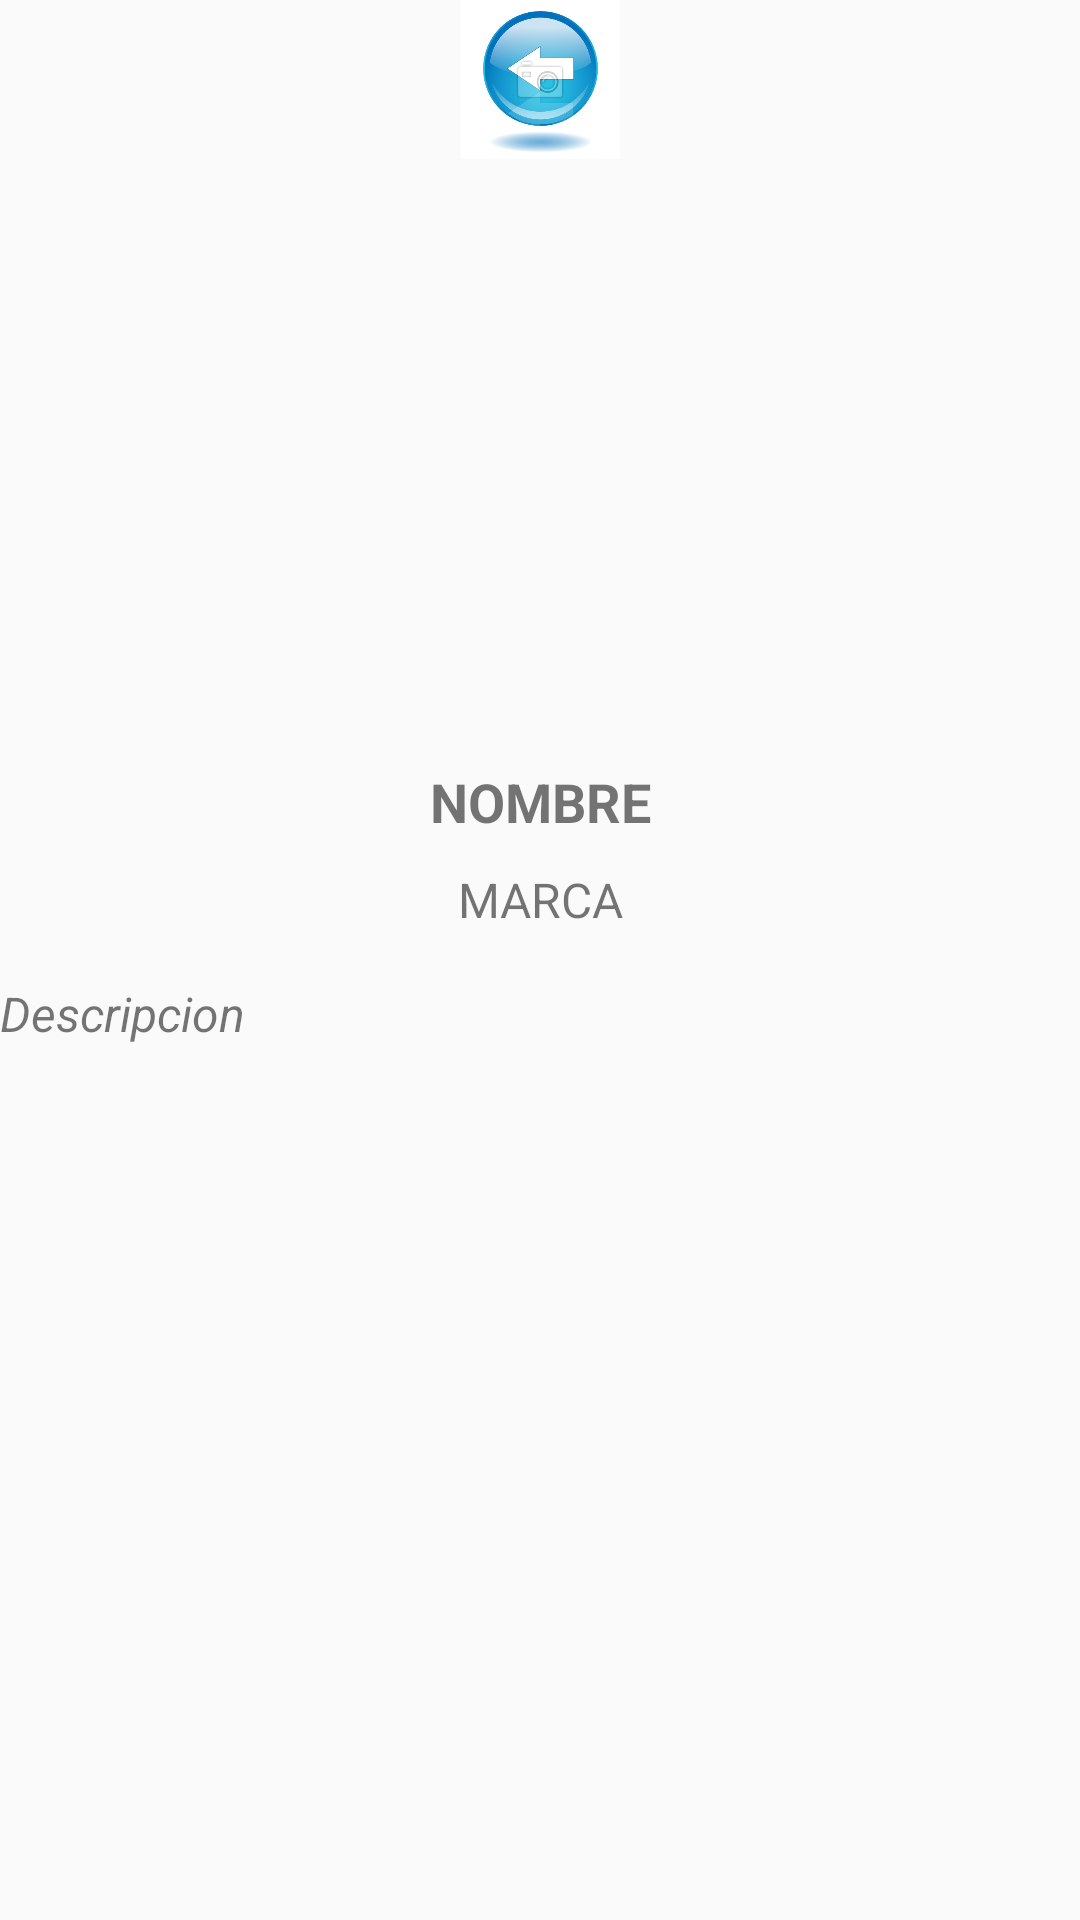

Where to tap for icons on this 1080x1920 app screen, as (x=x, y=y):
anterior: (x=540, y=81)
